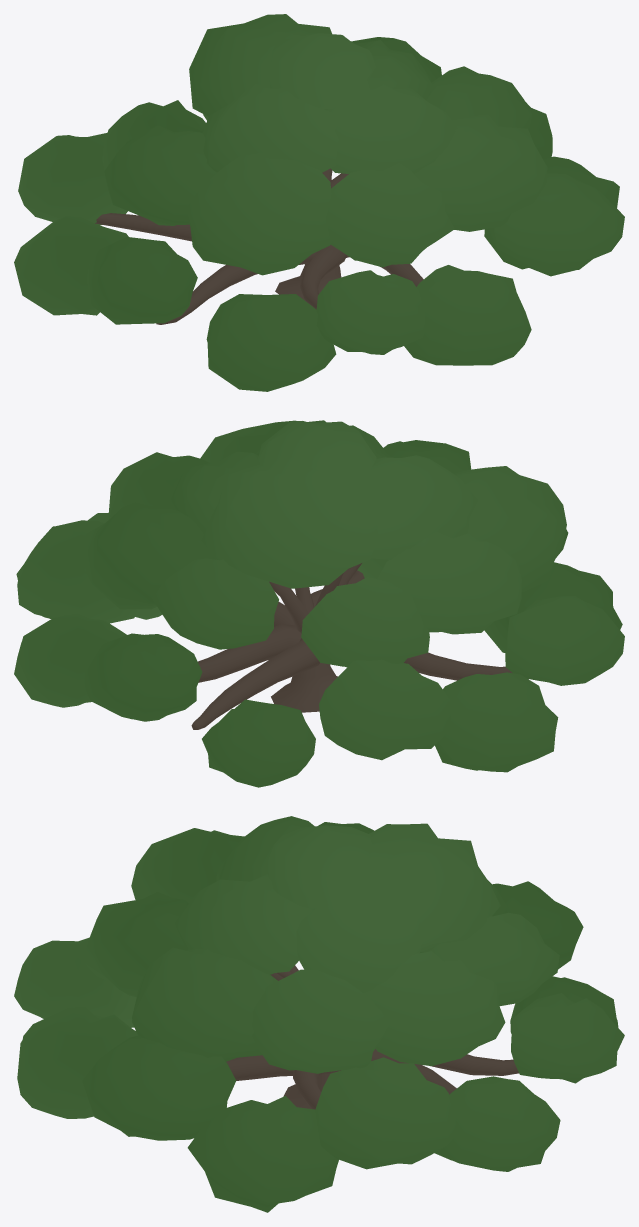
The model's file is Blender_LiveOak_1.glb.
The picture shows the model from 3 angles, top to bottom: view 1: azimuth 30°, elevation 25°; view 2: azimuth 150°, elevation 25°; view 3: azimuth 270°, elevation 25°; orthographic projection. The views are drawn at different scales.
Visible parts, largest first — view 1: Blender_LiveOak_1; view 2: Blender_LiveOak_1; view 3: Blender_LiveOak_1.
Part boxes in pixels (x1,y1,x2,y2): Blender_LiveOak_1: [14, 14, 624, 391]; Blender_LiveOak_1: [14, 420, 624, 787]; Blender_LiveOak_1: [14, 816, 624, 1212].
Bounding box in the file's own units: 33.14 × 15.52 × 30.65.
